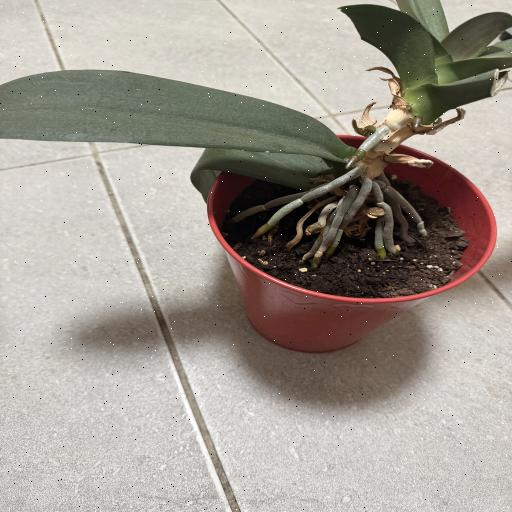Plant Pot: (206, 134, 496, 352)
